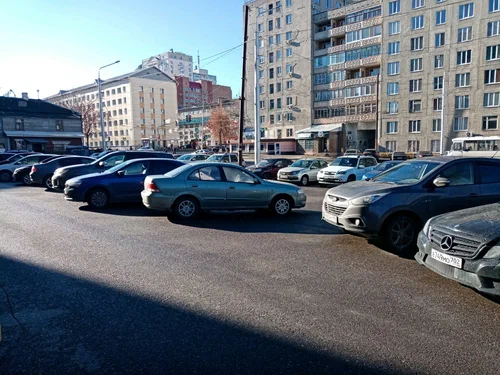Car: (321, 156, 500, 255), (141, 161, 306, 219), (415, 202, 500, 297), (63, 157, 186, 208), (51, 150, 175, 193), (29, 155, 98, 189), (316, 155, 380, 187), (12, 155, 70, 185), (0, 154, 59, 182), (277, 158, 329, 186), (448, 136, 500, 157), (245, 158, 293, 180), (361, 161, 405, 181), (205, 154, 246, 167), (0, 153, 42, 165), (177, 154, 210, 164), (390, 151, 407, 161), (363, 149, 378, 160), (92, 152, 112, 159), (191, 149, 214, 155), (343, 149, 362, 156), (0, 153, 16, 161), (3, 150, 34, 154), (416, 151, 433, 158), (213, 145, 229, 152), (137, 145, 153, 150), (172, 154, 183, 159), (441, 151, 450, 156), (90, 153, 100, 157)
